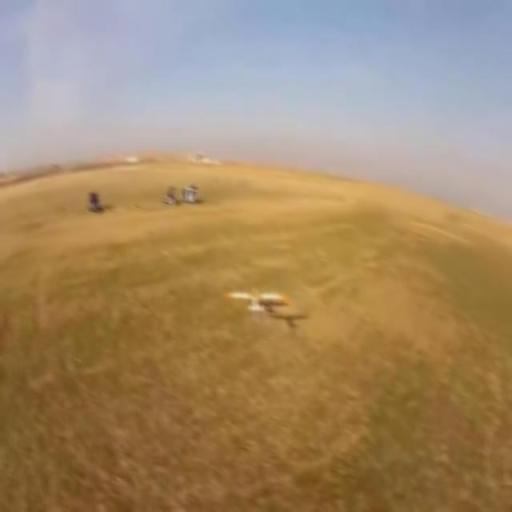uav: (222, 284, 286, 318)
